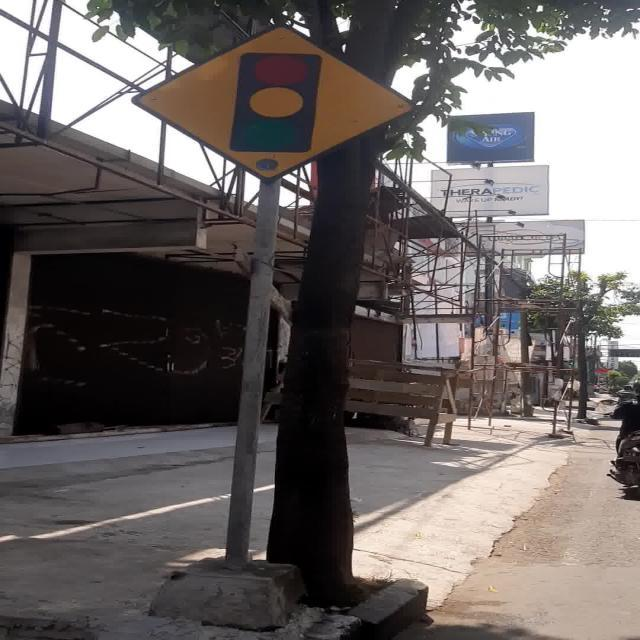Lampu Lalu Lintas: (130, 23, 417, 184)
